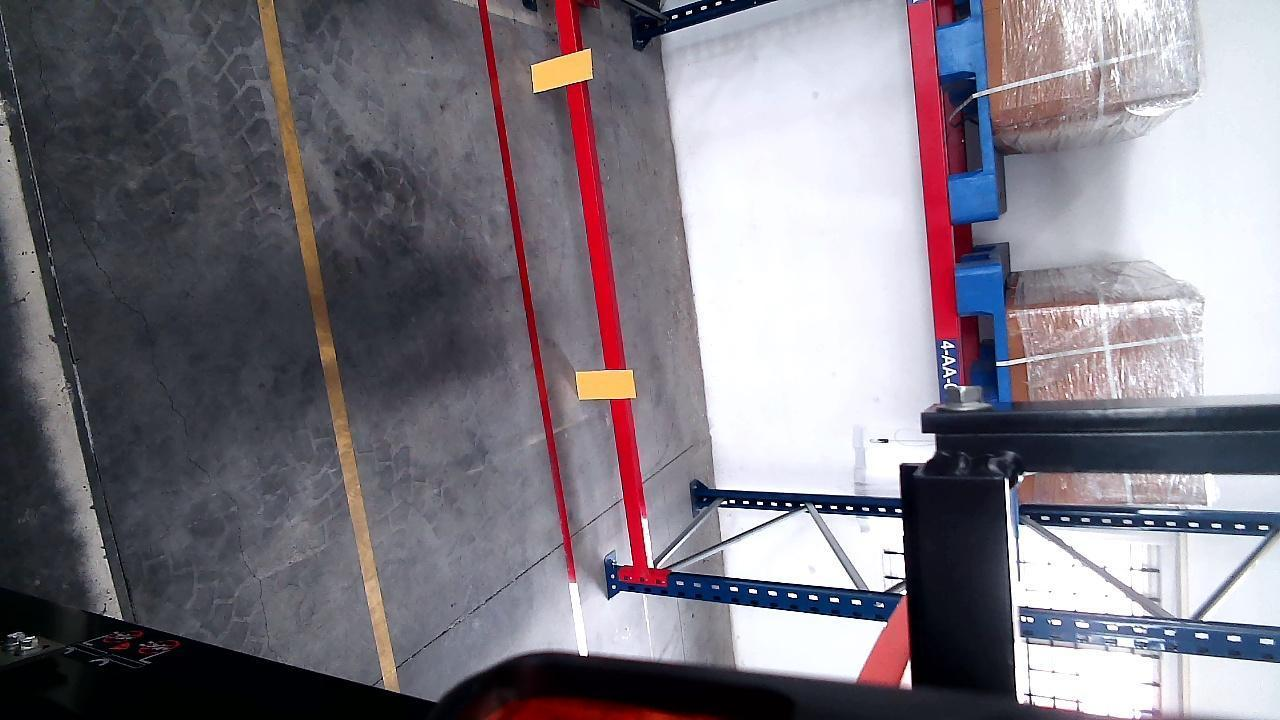h_rack: (559, 0, 656, 585), (910, 0, 960, 408), (1010, 614, 1280, 656)
orange_strip: (529, 48, 593, 92), (575, 368, 634, 400)
red_line: (524, 0, 628, 617), (480, 0, 577, 598)
small_pallet: (934, 0, 996, 203), (958, 267, 1008, 399)
yellow_line: (247, 0, 411, 695)
